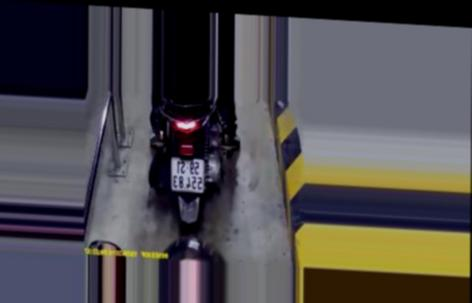License_Plate: (167, 155, 212, 196)
